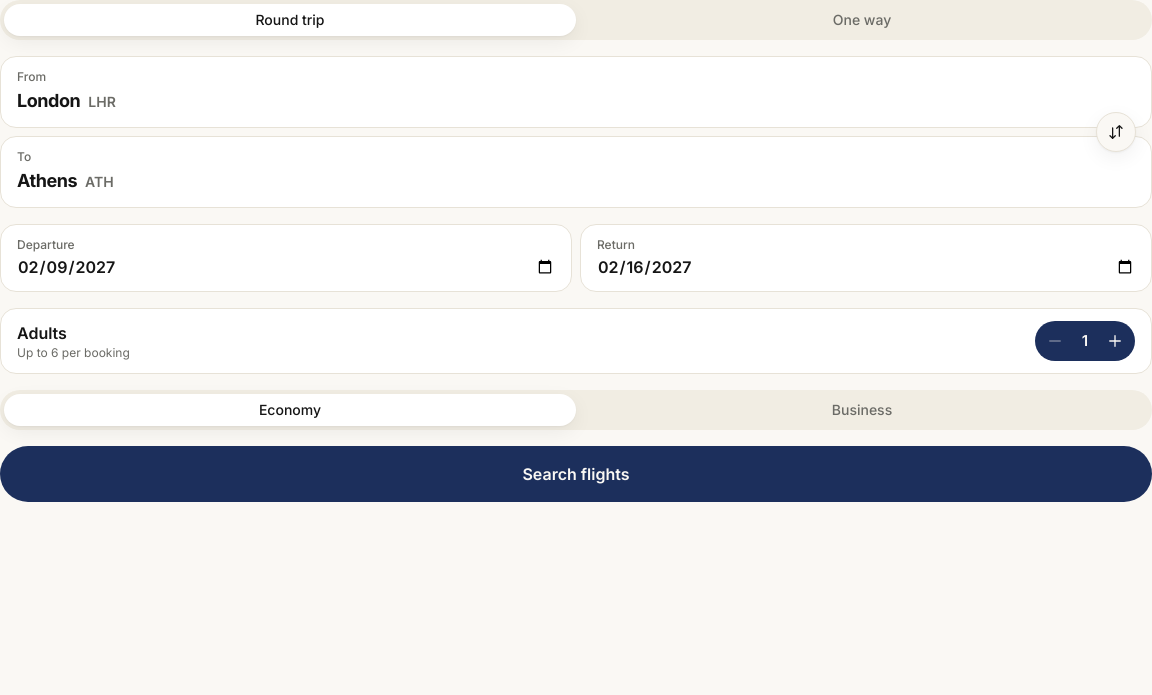
Scenario: SearchForm › shows an inline error and does not navigate when origin equals destination
Click the button "To Athens ATH" at [47, 180], box left=0, top=136, right=1151, bottom=208
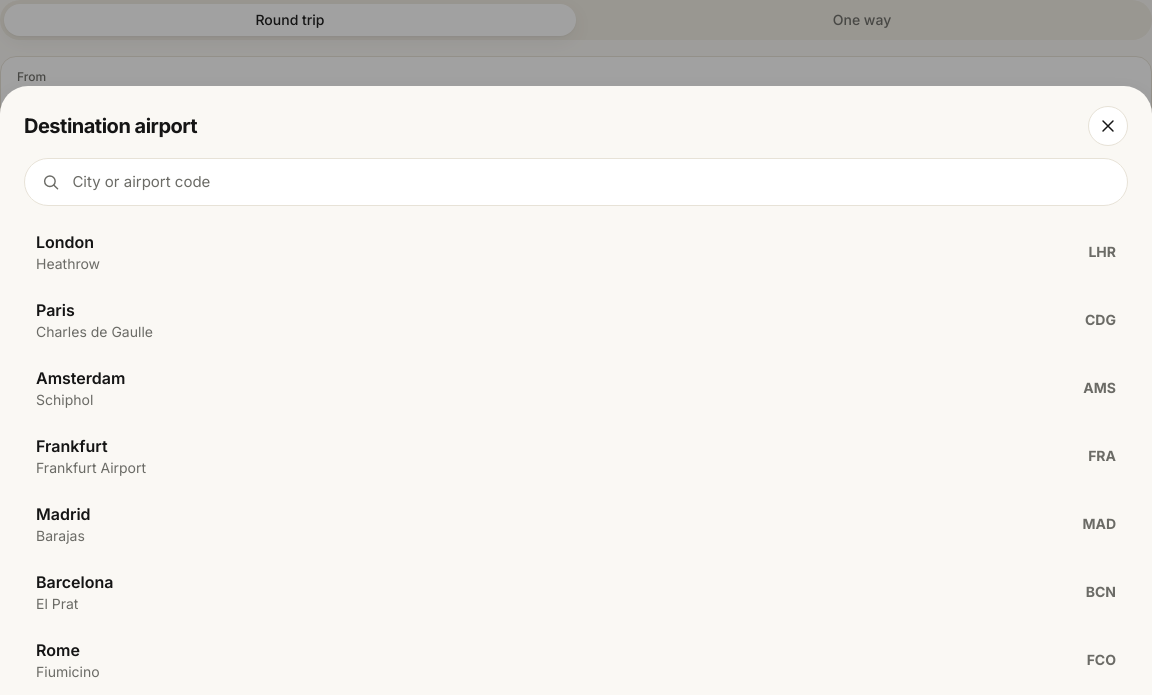
Click the button "London Heathrow LHR" at [65, 242], box left=24, top=218, right=1128, bottom=286
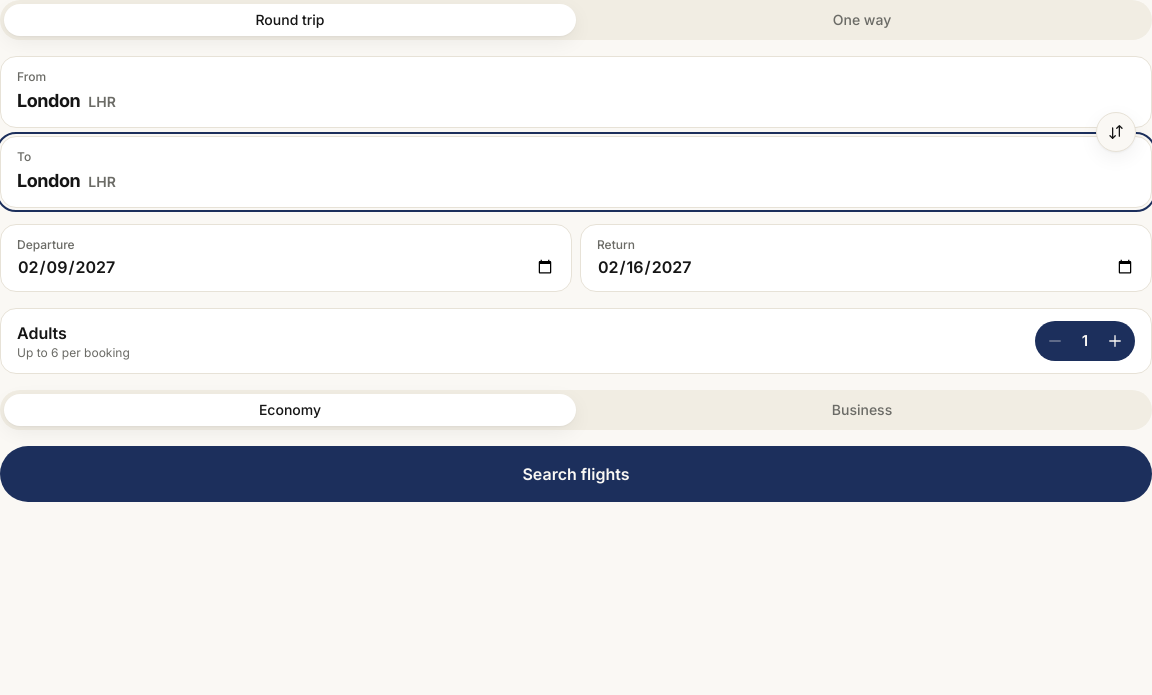
Click the button "Search flights" at [576, 474], box left=0, top=446, right=1151, bottom=502
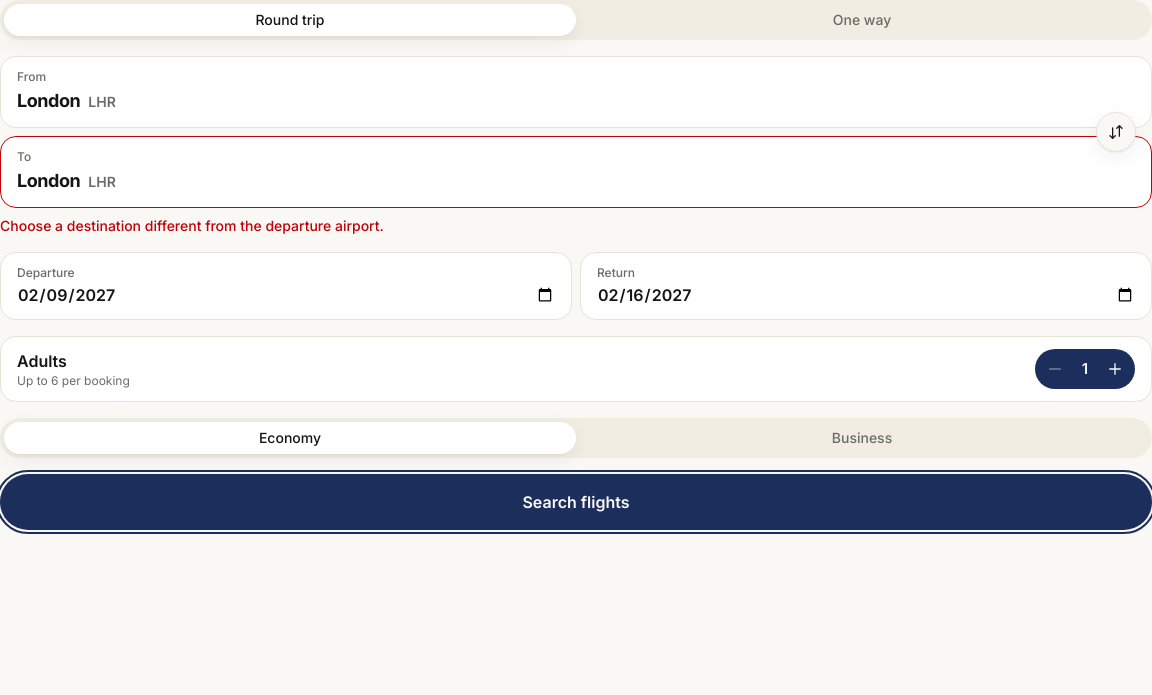
Expected: the message shows "different", left=0, top=217, right=384, bottom=234
